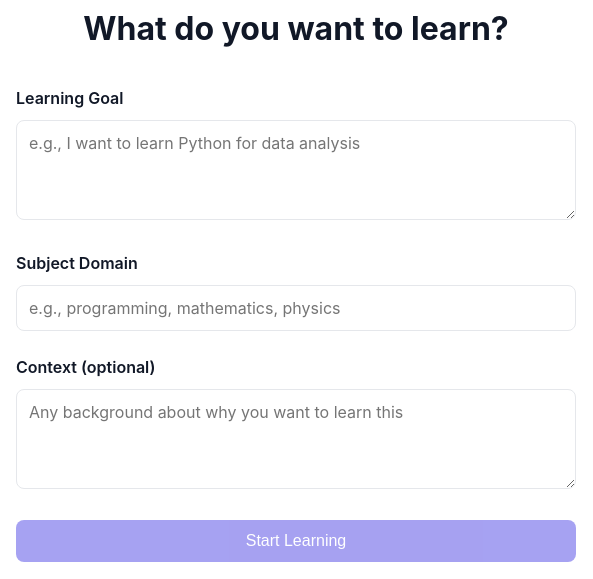
Test: GoalInput › enables submit button when fields are filled
Type "Learn Python for data analysis" into the text box labelled "Learning Goal".
click(296, 170); type("Learn Python for data analysis")  # box [16,120,576,220]
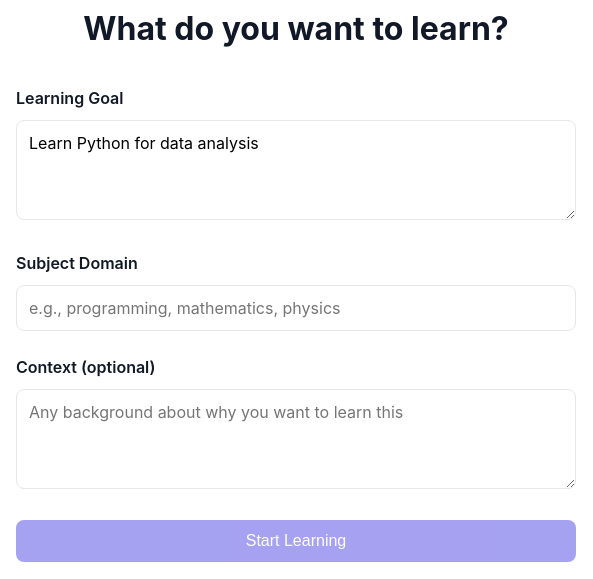
Type "programming" into the field labelled "Subject Domain".
click(296, 308); type("programming")  # box [16,285,576,331]
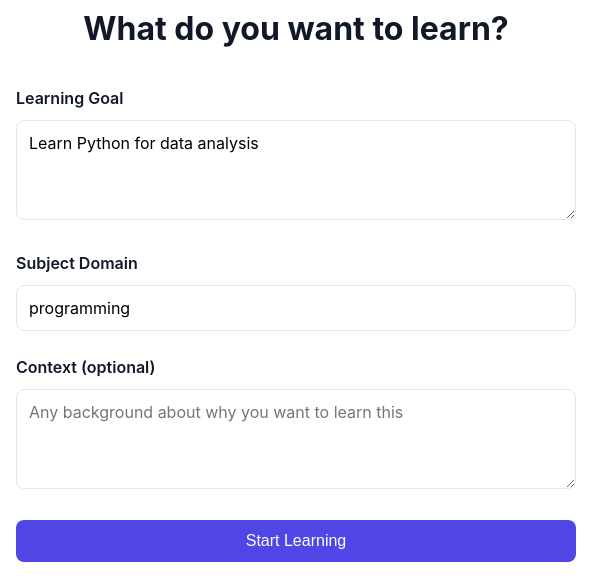
Expected: the button "Start Learning" is enabled, [16,520,576,562]
